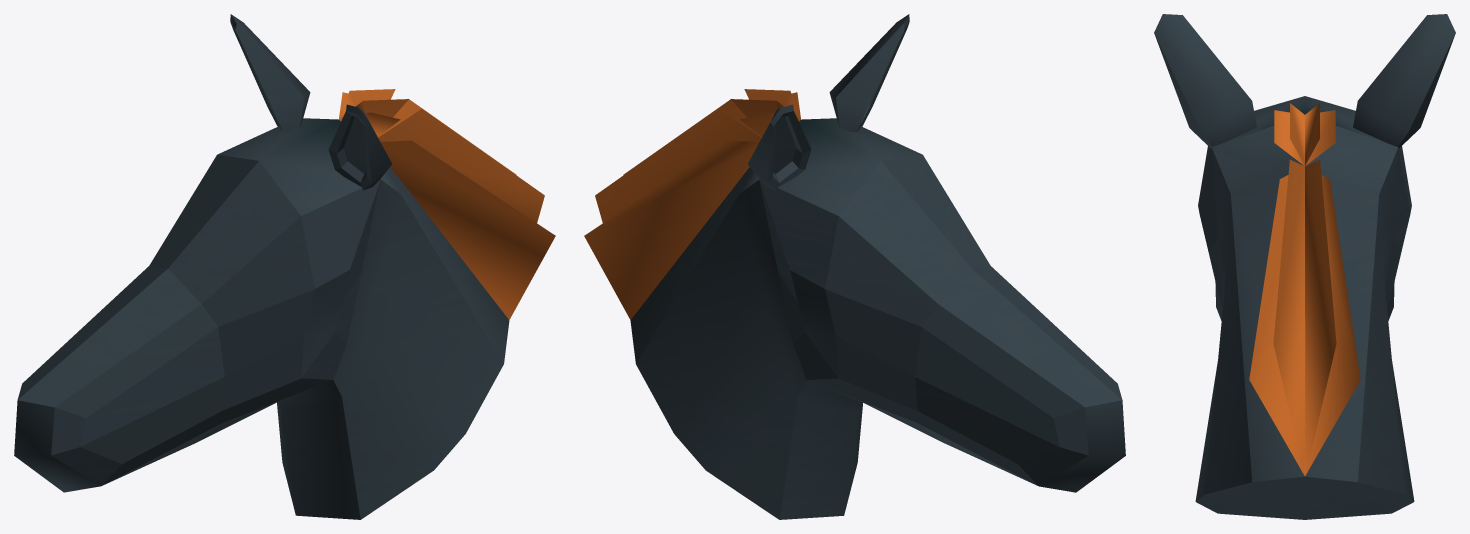
File: SM_Horse_Head.fbx
3 renders of one model, left to right at view 1: azimuth 30°, elevation 25°; view 2: azimuth 150°, elevation 25°; view 3: azimuth 270°, elevation 25°, orthographic. The views are drawn at different scales.
Parts seen in each view (by area): view 1: SM_Horse_Head; view 2: SM_Horse_Head; view 3: SM_Horse_Head.
Boxes of the visible parts, bbox=[...] form: SM_Horse_Head: bbox=[14, 14, 555, 519]; SM_Horse_Head: bbox=[584, 14, 1125, 519]; SM_Horse_Head: bbox=[1154, 14, 1455, 519].
Size of the model in its own units: 42.91 by 36.12 by 19.56.
